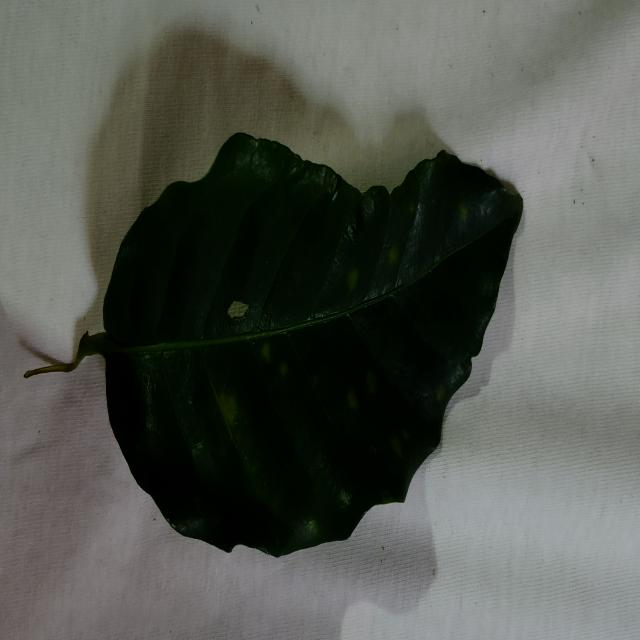KaratDaunKopi: (219, 394, 236, 426), (227, 301, 249, 319), (366, 371, 377, 395), (347, 269, 358, 292), (347, 389, 358, 410), (391, 437, 402, 457), (388, 245, 398, 265), (261, 342, 270, 362), (279, 361, 288, 378), (437, 386, 444, 400)
